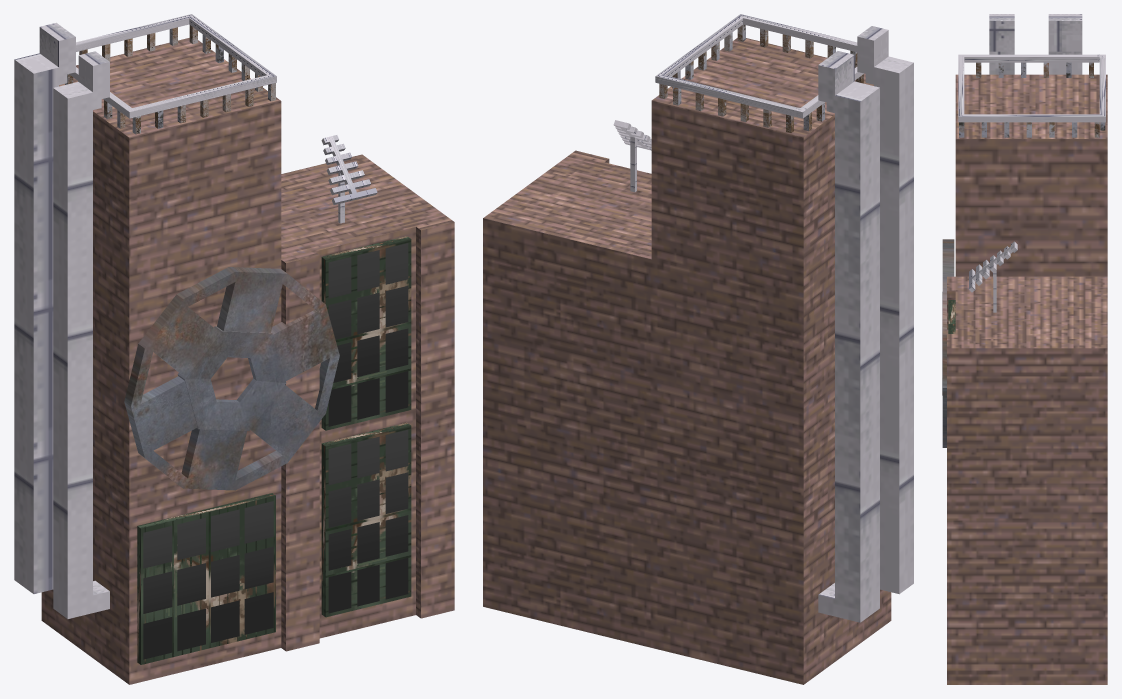
File: IE_Building1.fbx
3 views of the same model, side by side, from view 1: azimuth 30°, elevation 25°; view 2: azimuth 150°, elevation 25°; view 3: azimuth 270°, elevation 25° (orthographic). The views are drawn at different scales.
Visible parts, largest first — view 1: Cube.014, Cube.017, Circle.001, Cube.016; view 2: Cube.014, Cube.016; view 3: Cube.014, Circle.001, Cube.016, Cube.017.
Boxes of the visible parts, bbox=[...] form: Cube.014: bbox=[14, 14, 454, 684]; Cube.017: bbox=[137, 236, 411, 664]; Circle.001: bbox=[124, 267, 339, 490]; Cube.016: bbox=[321, 135, 377, 223]; Cube.014: bbox=[483, 14, 913, 684]; Cube.016: bbox=[613, 120, 651, 192]; Cube.014: bbox=[947, 14, 1107, 684]; Circle.001: bbox=[942, 239, 954, 447]; Cube.016: bbox=[969, 241, 1017, 312]; Cube.017: bbox=[948, 300, 955, 333].
Size of the model in its own units: 333 by 535 by 152.
